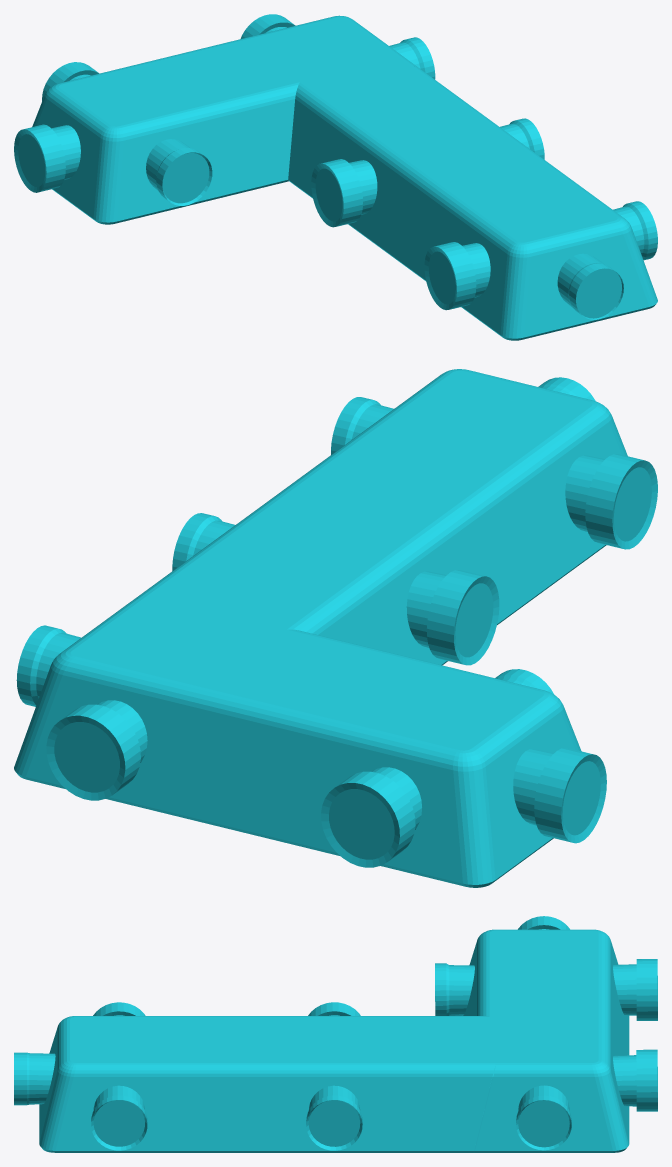
File: 32num.fbx
The picture shows the model from 3 angles, top to bottom: view 1: azimuth 30°, elevation 25°; view 2: azimuth 150°, elevation 25°; view 3: azimuth 270°, elevation 25°; orthographic projection. The views are drawn at different scales.
Parts seen in each view (by area): view 1: Cube.008; view 2: Cube.008; view 3: Cube.008.
Part boxes in pixels (x1=…): Cube.008: x1=14, y1=14, x2=657, y2=340; Cube.008: x1=14, y1=369, x2=657, y2=887; Cube.008: x1=14, y1=916, x2=657, y2=1152.
Size of the model in its own units: 4.98 by 1 by 7.48.
